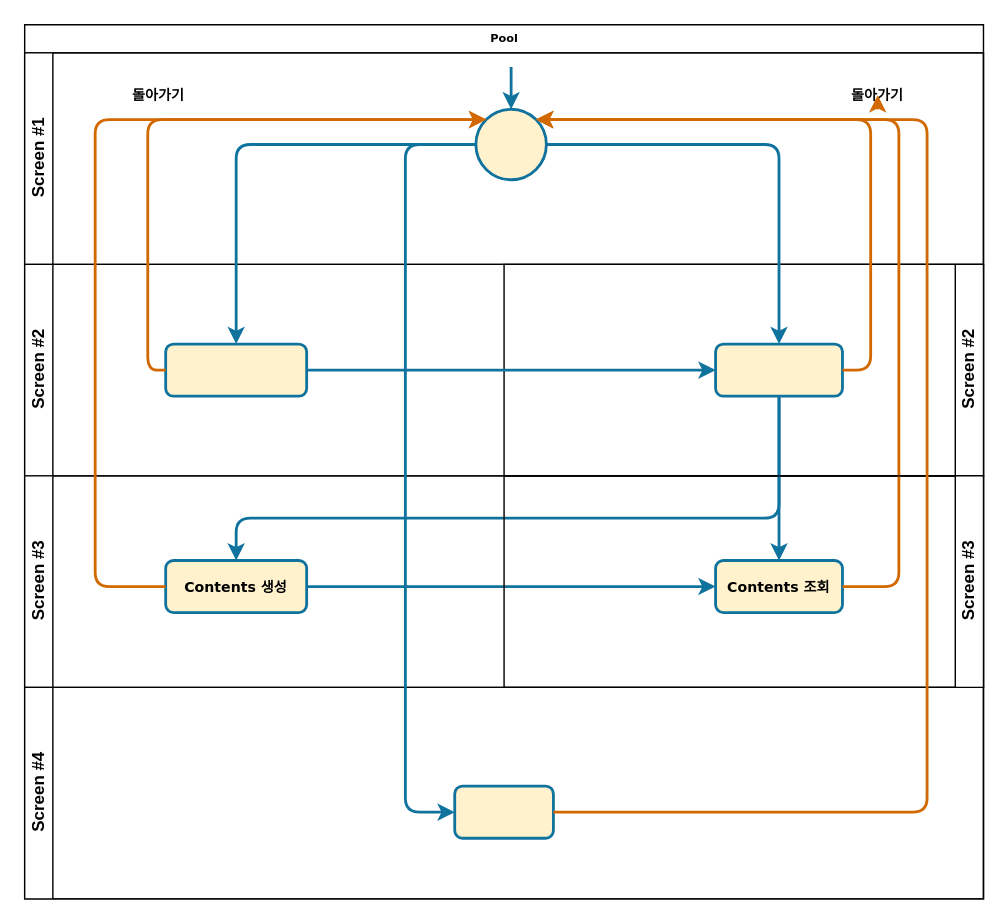
This 1008x924 diagram has some shape labels left out. Each missing label, with the centre of its shape:
"History 생성" goes at point 235,369.
"History 조회" goes at point 778,369.
"기타 화면" goes at point 503,811.
"시작화면" goes at point 510,143.
